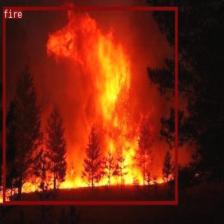fire: (2, 7, 177, 204)
